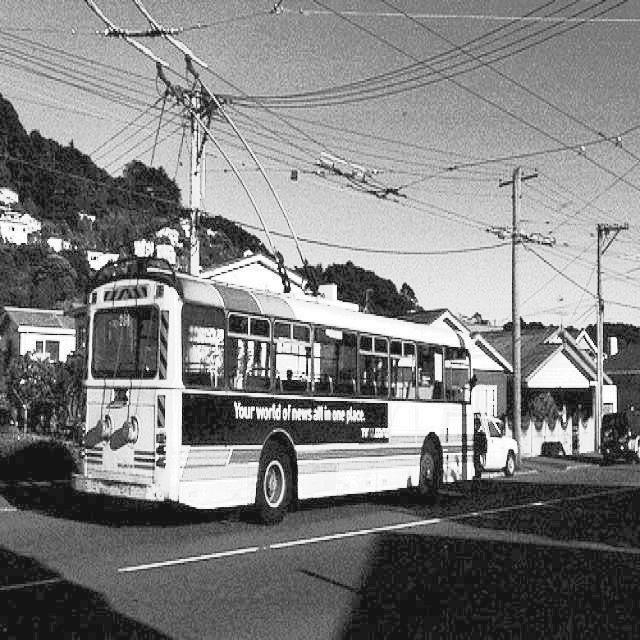Bus: (71, 253, 483, 531)
